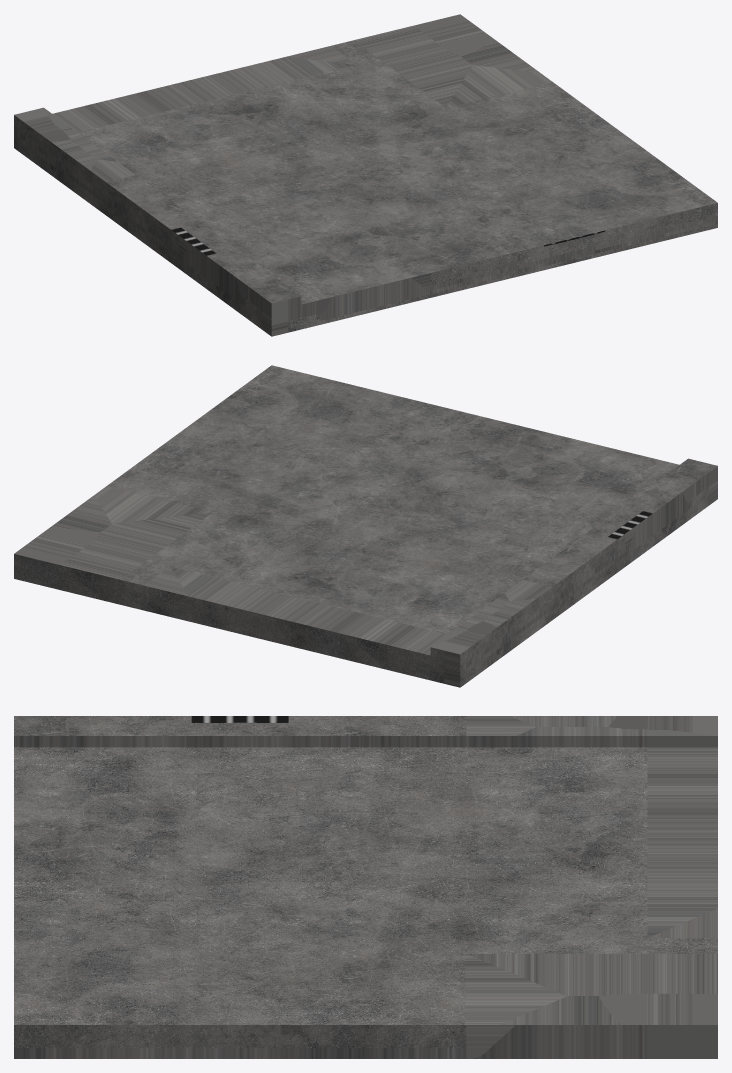
The model's file is Foot Path wRamp.fbx.
The picture shows the model from 3 angles, top to bottom: view 1: azimuth 30°, elevation 25°; view 2: azimuth 150°, elevation 25°; view 3: azimuth 270°, elevation 25°; orthographic projection. The views are drawn at different scales.
Parts seen in each view (by area): view 1: Plane.068; view 2: Plane.068; view 3: Plane.068.
Boxes of the visible parts, box(x1,y1,x2,y2) form: Plane.068: box(14, 14, 717, 336); Plane.068: box(14, 365, 717, 687); Plane.068: box(14, 716, 717, 1058).
Size of the model in its own units: 300 by 21.37 by 300.
Materials: 1 (1 with a texture image).
